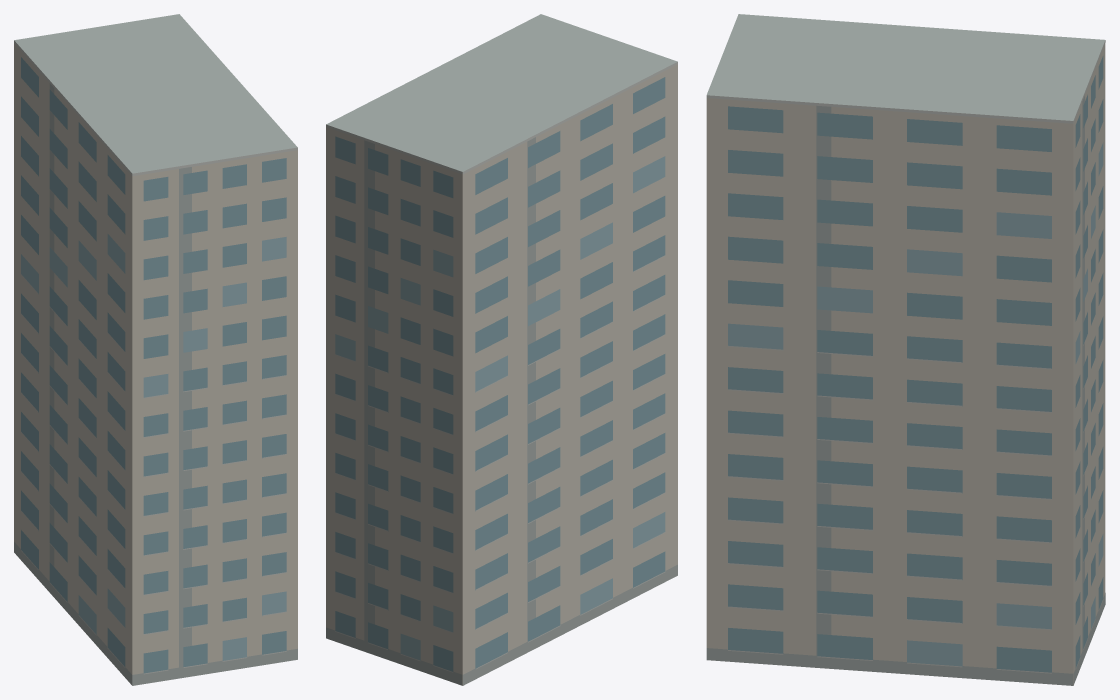
The model's file is residential-5582dd9a-81c8-4f60-abd2-7669991c4c99.glb.
3 views of the same model, side by side, from view 1: azimuth 30°, elevation 25°; view 2: azimuth 150°, elevation 25°; view 3: azimuth 270°, elevation 25° (orthographic). The views are drawn at different scales.
Parts seen in each view (by area): view 1: residential-5582dd9a-81c8-4f60-abd2-7669991c4c99.tmp; view 2: residential-5582dd9a-81c8-4f60-abd2-7669991c4c99.tmp; view 3: residential-5582dd9a-81c8-4f60-abd2-7669991c4c99.tmp.
Part boxes in pixels (<box>): residential-5582dd9a-81c8-4f60-abd2-7669991c4c99.tmp: <box>14,14,297,685</box>; residential-5582dd9a-81c8-4f60-abd2-7669991c4c99.tmp: <box>326,14,677,685</box>; residential-5582dd9a-81c8-4f60-abd2-7669991c4c99.tmp: <box>706,14,1105,685</box>.
Size of the model in its own units: 19.92 by 49 by 31.37.
